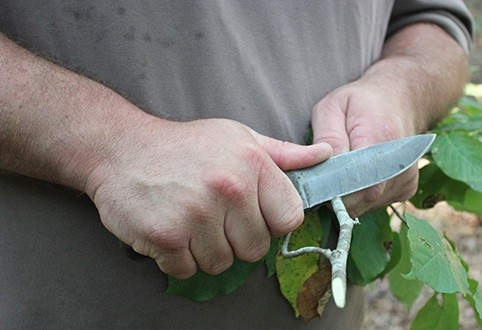knife: (194, 130, 442, 277)
